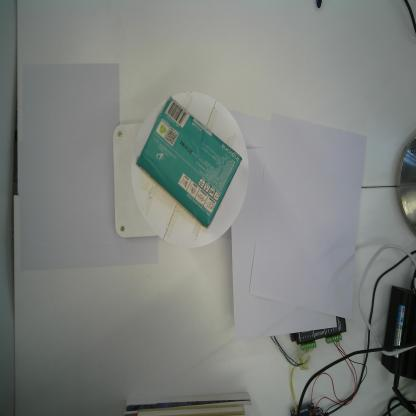Tissue: (134, 94, 245, 230)
